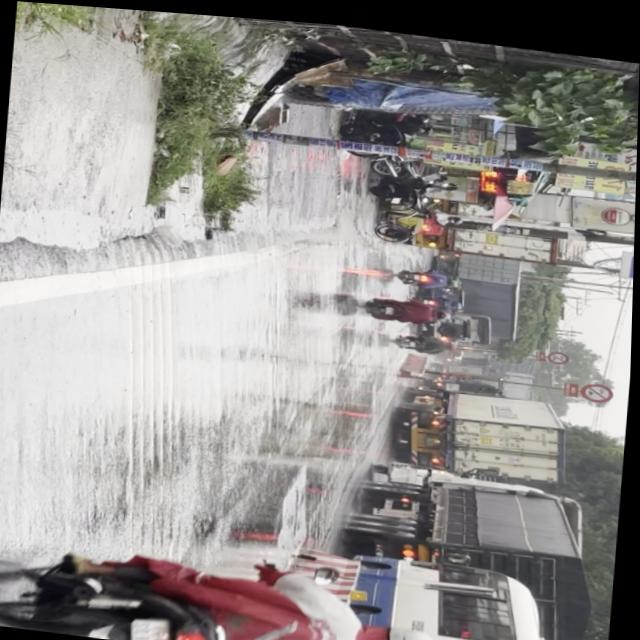helmet: (363, 614, 443, 640)
licenseplate: (0, 527, 450, 640)
nohelmet: (136, 615, 173, 640)
